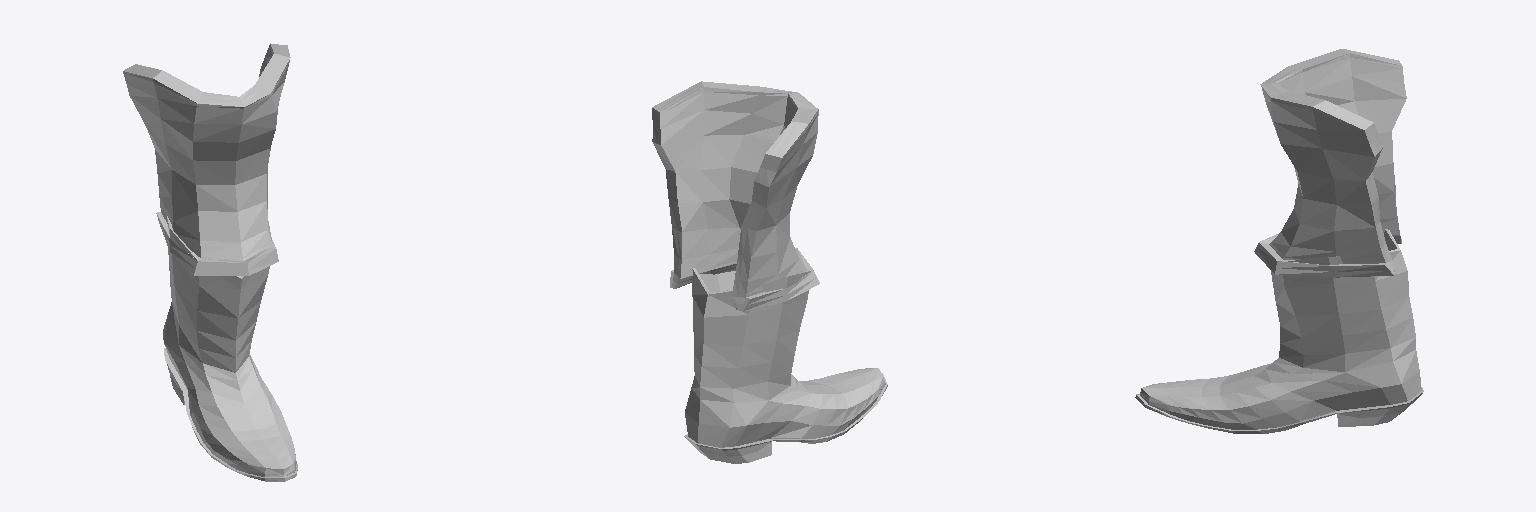
File: downfoot.obj
3 renders of one model, left to right at view 1: azimuth 30°, elevation 25°; view 2: azimuth 150°, elevation 25°; view 3: azimuth 270°, elevation 25°, orthographic.
Visible parts, largest first — view 1: superman:polySurface6; view 2: superman:polySurface6; view 3: superman:polySurface6.
Boxes of the visible parts, x1=… form: superman:polySurface6: x1=123, y1=43, x2=297, y2=481; superman:polySurface6: x1=652, y1=81, x2=887, y2=463; superman:polySurface6: x1=1135, y1=49, x2=1423, y2=433.
Size of the model in its own units: 1.49 by 3.4 by 2.53.